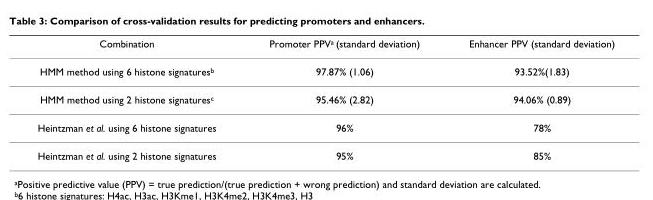table: (36, 36, 613, 161)
table column: (36, 36, 241, 161), (241, 36, 443, 161), (443, 36, 613, 161)
table column header: (36, 36, 613, 56)
table row: (36, 56, 613, 85), (36, 85, 613, 113), (36, 113, 613, 141), (36, 36, 613, 56), (36, 141, 613, 161)
